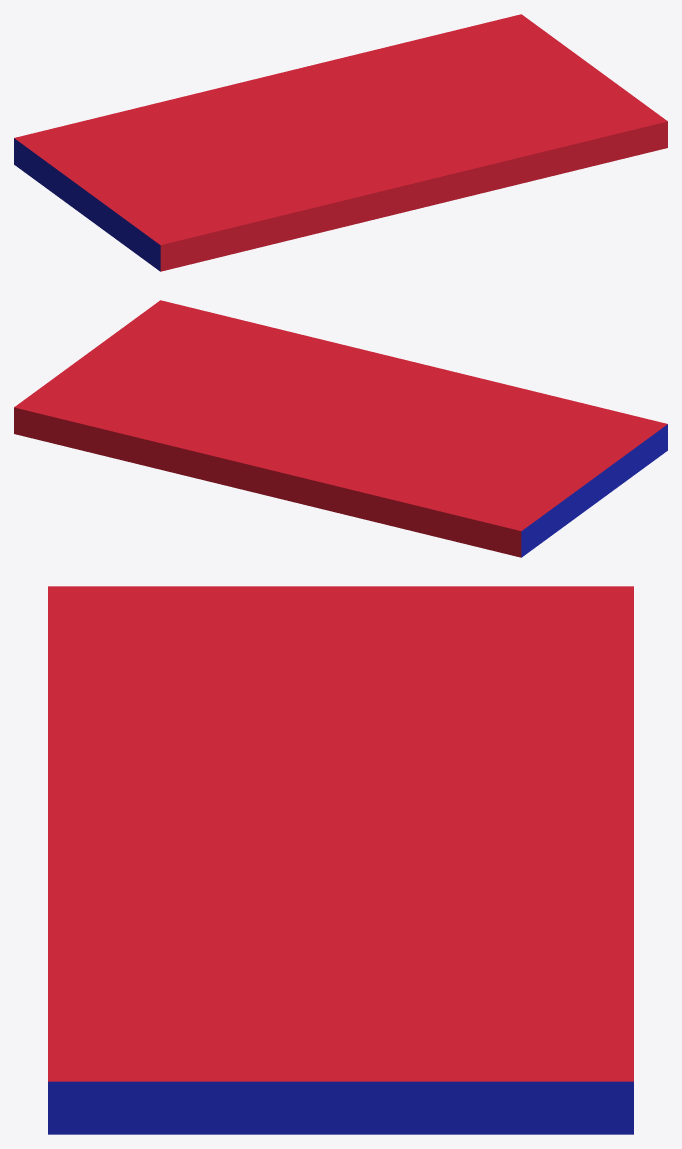
The model's file is CubeBend.fbx.
3 views of the same model, one above another, from view 1: azimuth 30°, elevation 25°; view 2: azimuth 150°, elevation 25°; view 3: azimuth 270°, elevation 25° (orthographic). The views are drawn at different scales.
Visible parts, largest first — view 1: Cube; view 2: Cube; view 3: Cube.
Boxes of the visible parts, <box> form: Cube: <box>14,14,667,271</box>; Cube: <box>14,300,667,557</box>; Cube: <box>48,586,633,1134</box>.
Size of the model in its own units: 10160 by 508 by 5080.
